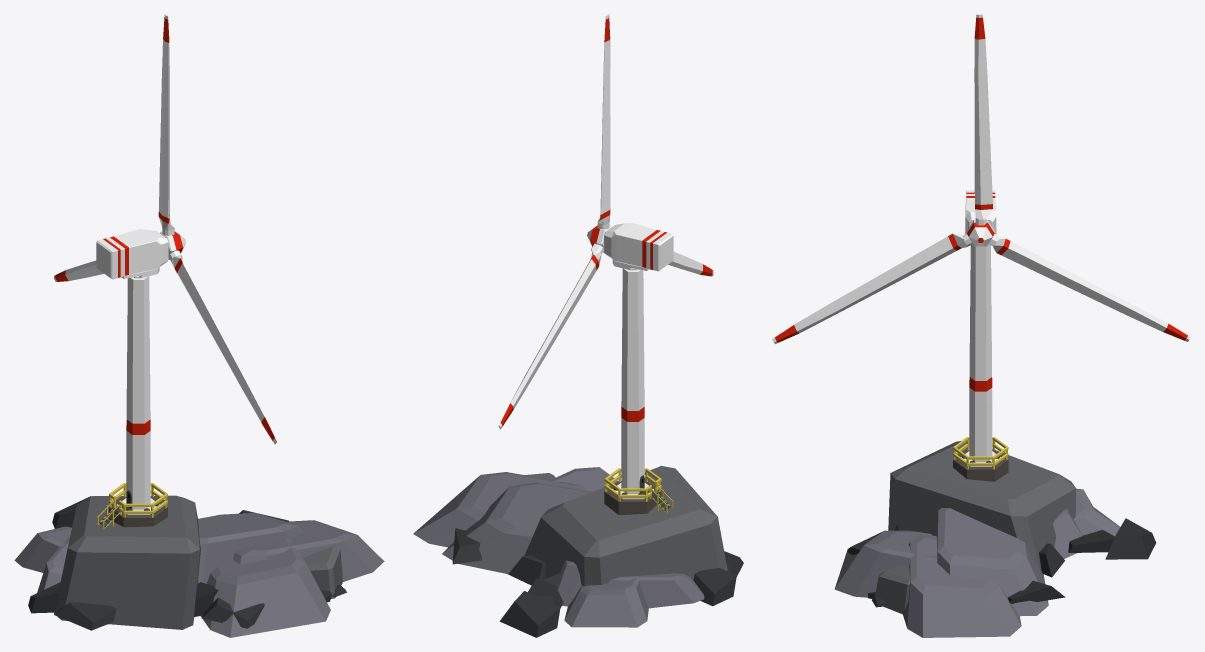
Rendered from windTurbine.gltf.
3 renders of one model, left to right at view 1: azimuth 30°, elevation 25°; view 2: azimuth 150°, elevation 25°; view 3: azimuth 270°, elevation 25°, orthographic. The views are drawn at different scales.
Parts seen in each view (by area): view 1: Cube.001; view 2: Cube.001; view 3: Cube.001.
Part boxes in pixels (<box>): Cube.001: <box>14,14,384,637</box>; Cube.001: <box>413,14,743,637</box>; Cube.001: <box>772,14,1190,637</box>.
Bounding box in the file's own units: 22.41 × 39.7 × 26.88.
